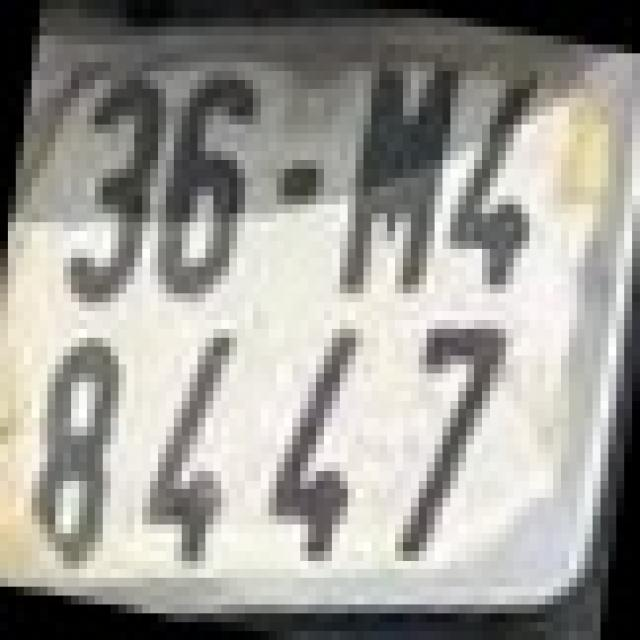3: (63, 71, 158, 302)
4: (268, 320, 364, 560), (142, 324, 237, 564), (446, 62, 542, 294)
6: (154, 71, 257, 293)
7: (395, 320, 514, 560)
8: (32, 338, 118, 569)
M: (340, 54, 450, 294)
